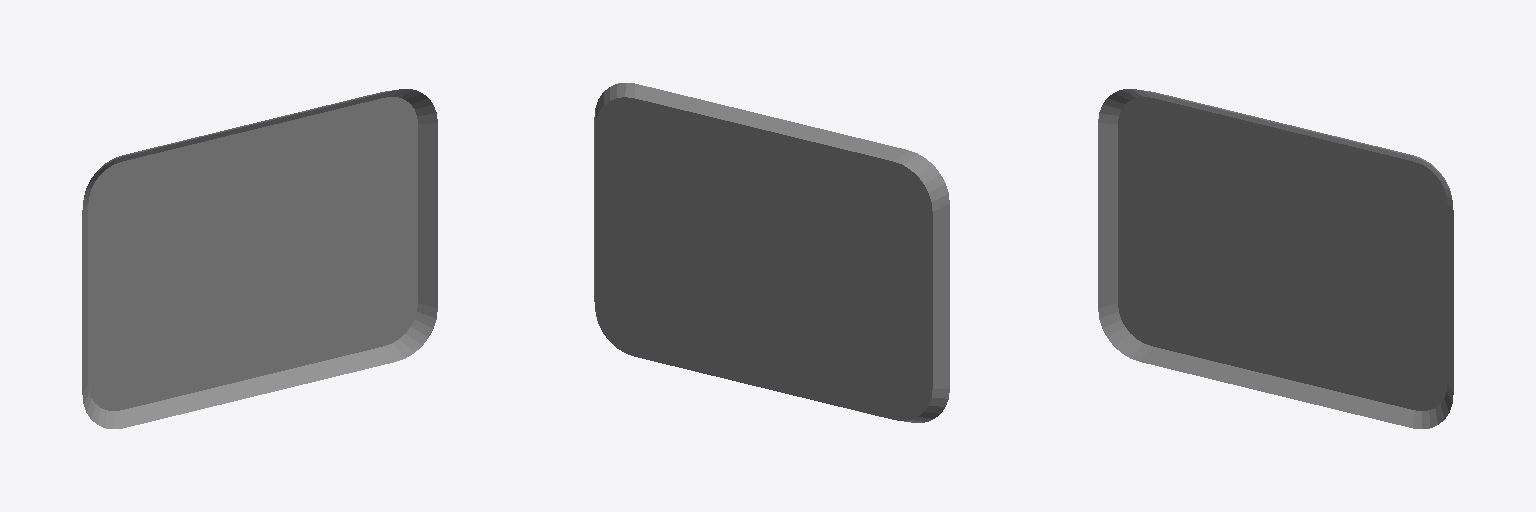
The model's file is Tray.obj.
3 renders of one model, left to right at view 1: azimuth 30°, elevation 25°; view 2: azimuth 150°, elevation 25°; view 3: azimuth 330°, elevation 25°, orthographic.
Visible parts, largest first — view 1: Tray; view 2: Tray; view 3: Tray.
Boxes of the visible parts, <box> form: Tray: <box>82,89,437,428</box>; Tray: <box>594,83,949,422</box>; Tray: <box>1098,89,1453,428</box>.
Size of the model in its own units: 49.79 by 36.41 by 2.04.